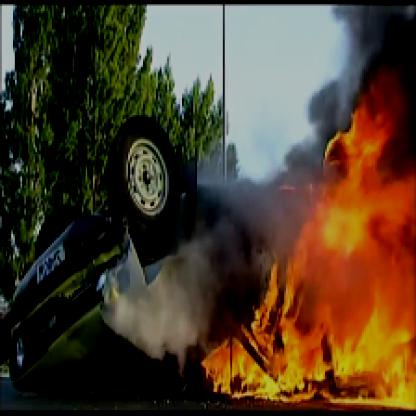Fire: (191, 84, 414, 414)
